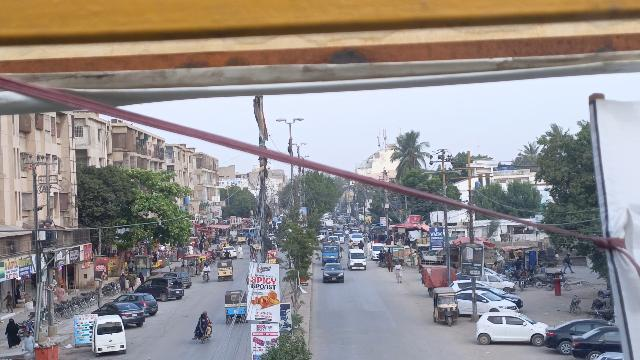Bike: (197, 327, 207, 343), (201, 271, 210, 283)
Car: (474, 310, 546, 346), (544, 318, 613, 350), (455, 288, 519, 316), (90, 301, 145, 328), (136, 276, 185, 302), (114, 292, 159, 316), (321, 261, 347, 283)
Person: (4, 317, 20, 348), (21, 331, 35, 360), (195, 310, 211, 327), (394, 260, 404, 284), (202, 263, 212, 273)
Rickshaw: (431, 286, 460, 327), (223, 289, 250, 324), (216, 259, 234, 281)
Truck: (320, 242, 342, 264)
Van: (92, 315, 129, 357), (346, 248, 367, 271)
